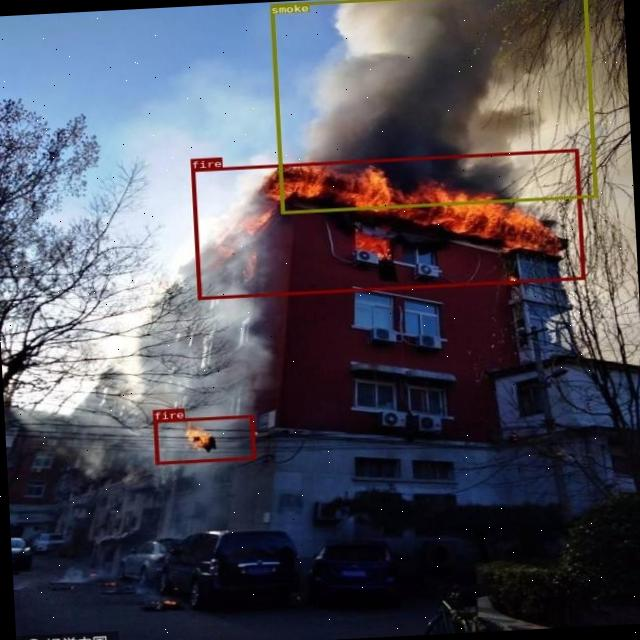fire: (191, 148, 584, 300), (153, 414, 255, 464)
smoke: (269, 0, 597, 213)
